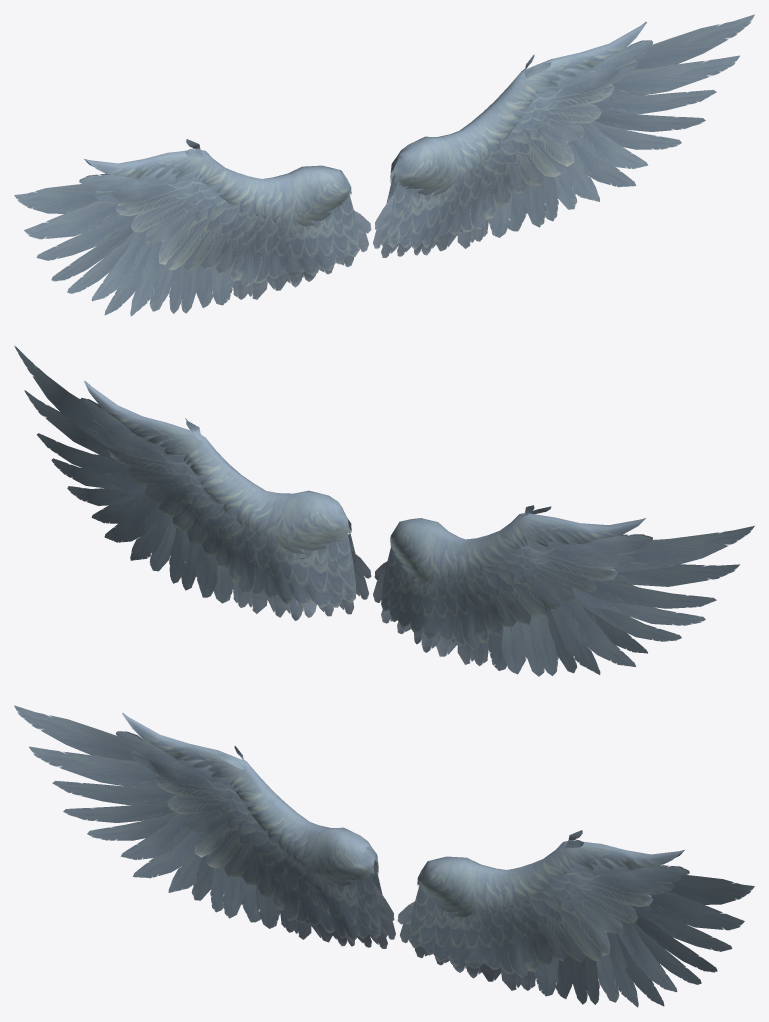
Rendered from MODEL_0188_back_wings_AR_READY_unity_ready.glb.
3 renders of one model, top to bottom at view 1: azimuth 30°, elevation 25°; view 2: azimuth 150°, elevation 25°; view 3: azimuth 330°, elevation 25°, orthographic.
Parts seen in each view (by area): view 1: Object_4; view 2: Object_4; view 3: Object_4.
Part boxes in pixels (x1,y1,x2,y2): Object_4: (14, 14, 754, 316); Object_4: (14, 346, 754, 676); Object_4: (14, 705, 754, 1007).
Bounding box in the file's own units: 4.01 × 0.9679 × 0.3022.
1 material, 1 textured.
